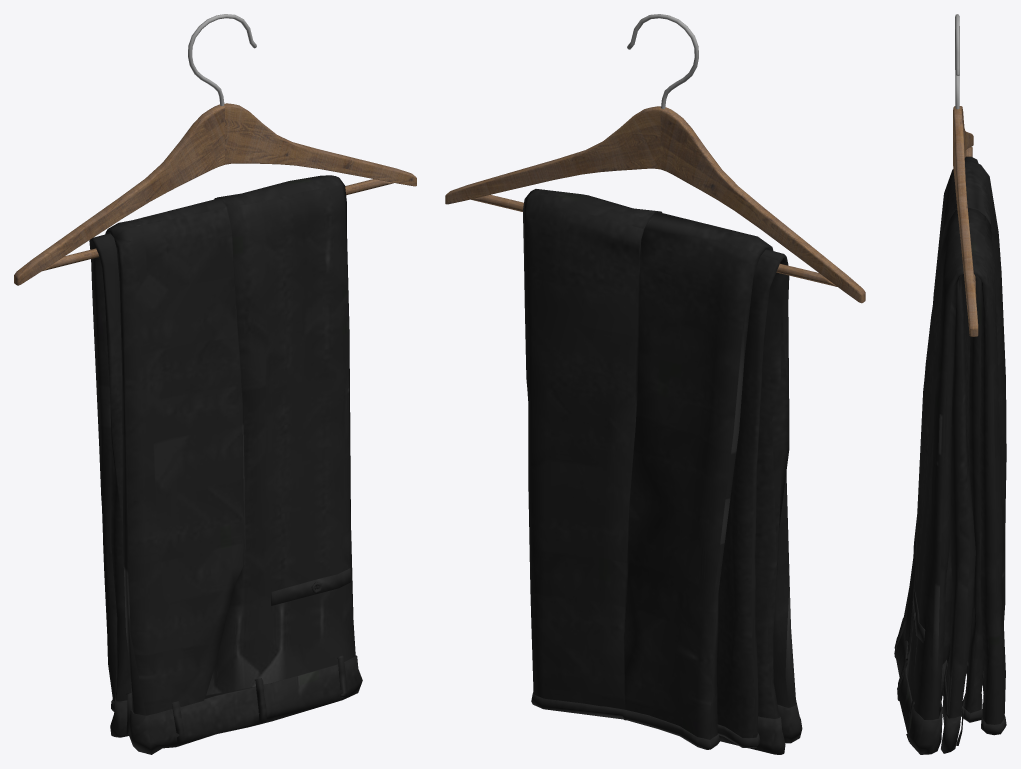
Rendered from pantsz_013.glb.
3 renders of one model, left to right at view 1: azimuth 30°, elevation 25°; view 2: azimuth 150°, elevation 25°; view 3: azimuth 270°, elevation 25°, orthographic. The views are drawn at different scales.
Parts seen in each view (by area): view 1: pants_013_StaticMeshComponent0, BP_Hangers_for_clothes317_StaticMeshComponent0; view 2: pants_013_StaticMeshComponent0, BP_Hangers_for_clothes317_StaticMeshComponent0; view 3: pants_013_StaticMeshComponent0, BP_Hangers_for_clothes317_StaticMeshComponent0.
Part boxes in pixels (x1,y1,x2,y2): pants_013_StaticMeshComponent0: (89,175,362,754); BP_Hangers_for_clothes317_StaticMeshComponent0: (14,14,416,285); pants_013_StaticMeshComponent0: (523,189,802,754); BP_Hangers_for_clothes317_StaticMeshComponent0: (445,14,865,303); pants_013_StaticMeshComponent0: (894,156,1006,754); BP_Hangers_for_clothes317_StaticMeshComponent0: (953,14,978,336).
Bounding box in the file's own units: 0.4373 × 0.7206 × 0.1078.
Materials: 3 (2 with a texture image).
